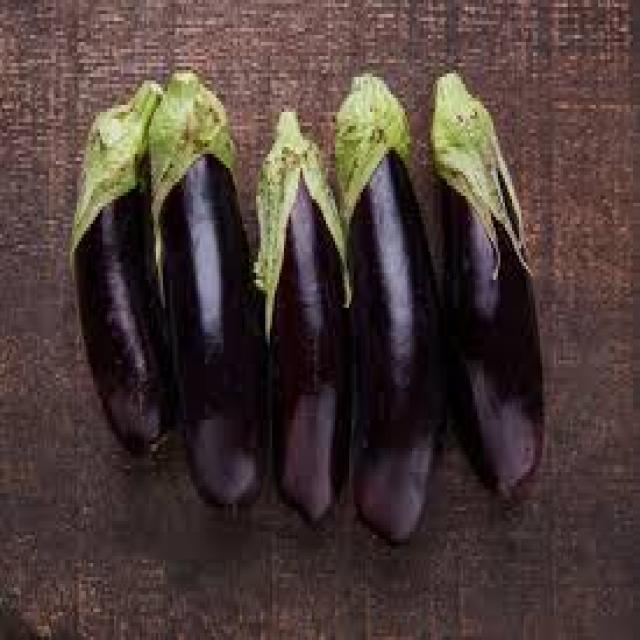eggplant: (152, 71, 268, 501), (429, 71, 543, 494), (339, 75, 439, 540), (71, 96, 173, 456), (260, 110, 346, 519)
